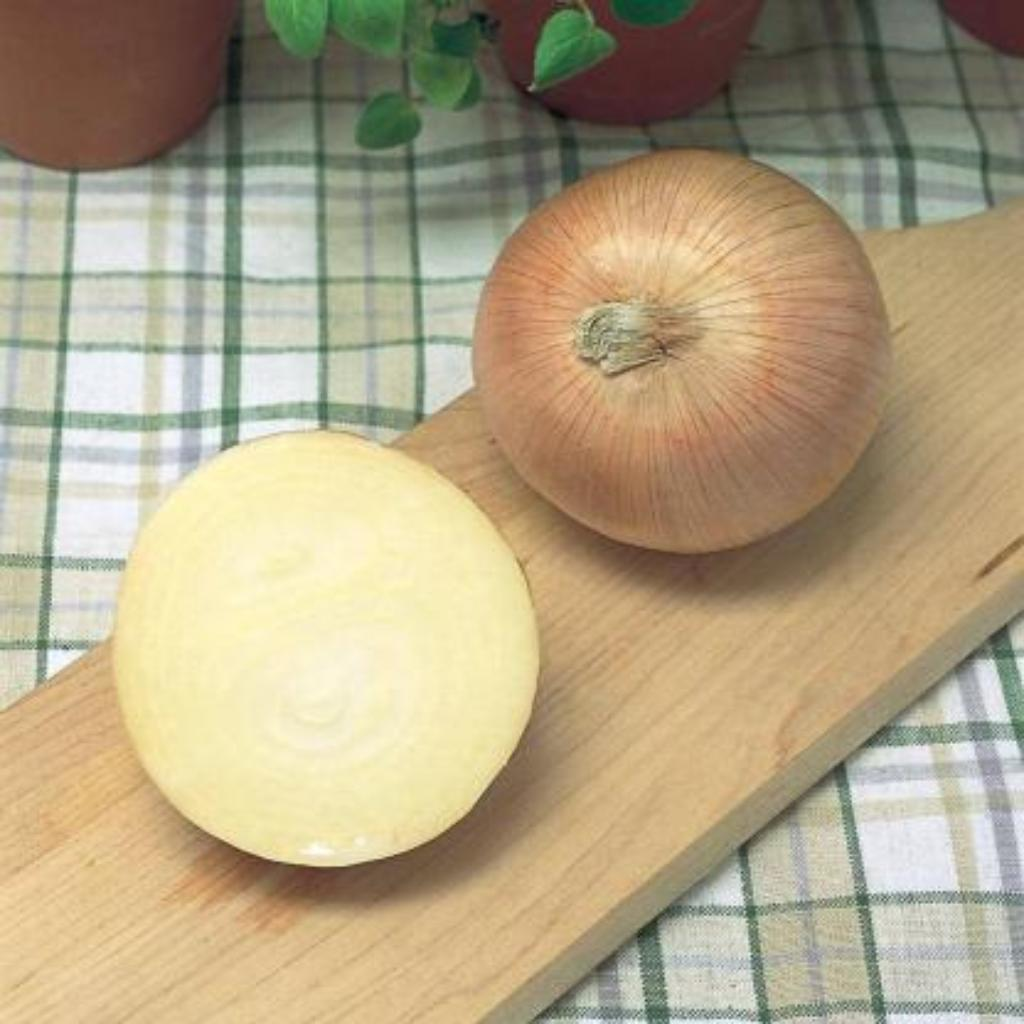Onion: (475, 150, 891, 553)
